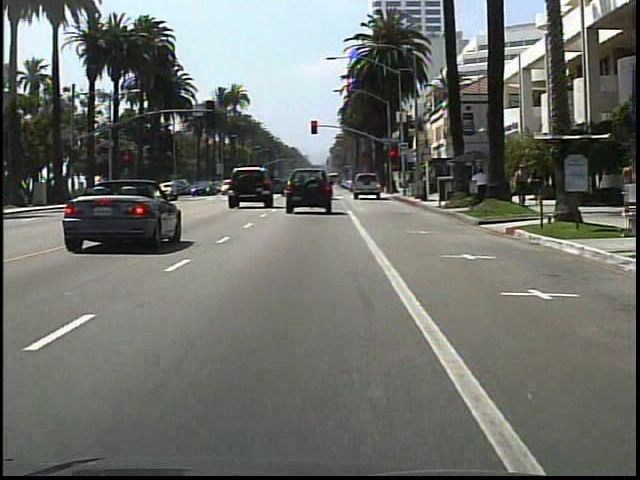person: (470, 165, 492, 207), (512, 161, 530, 209)
